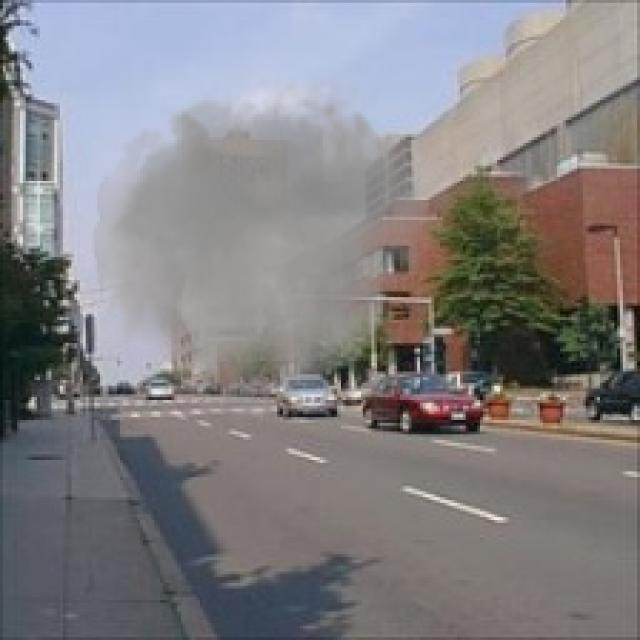Smoke: (82, 62, 458, 438)
